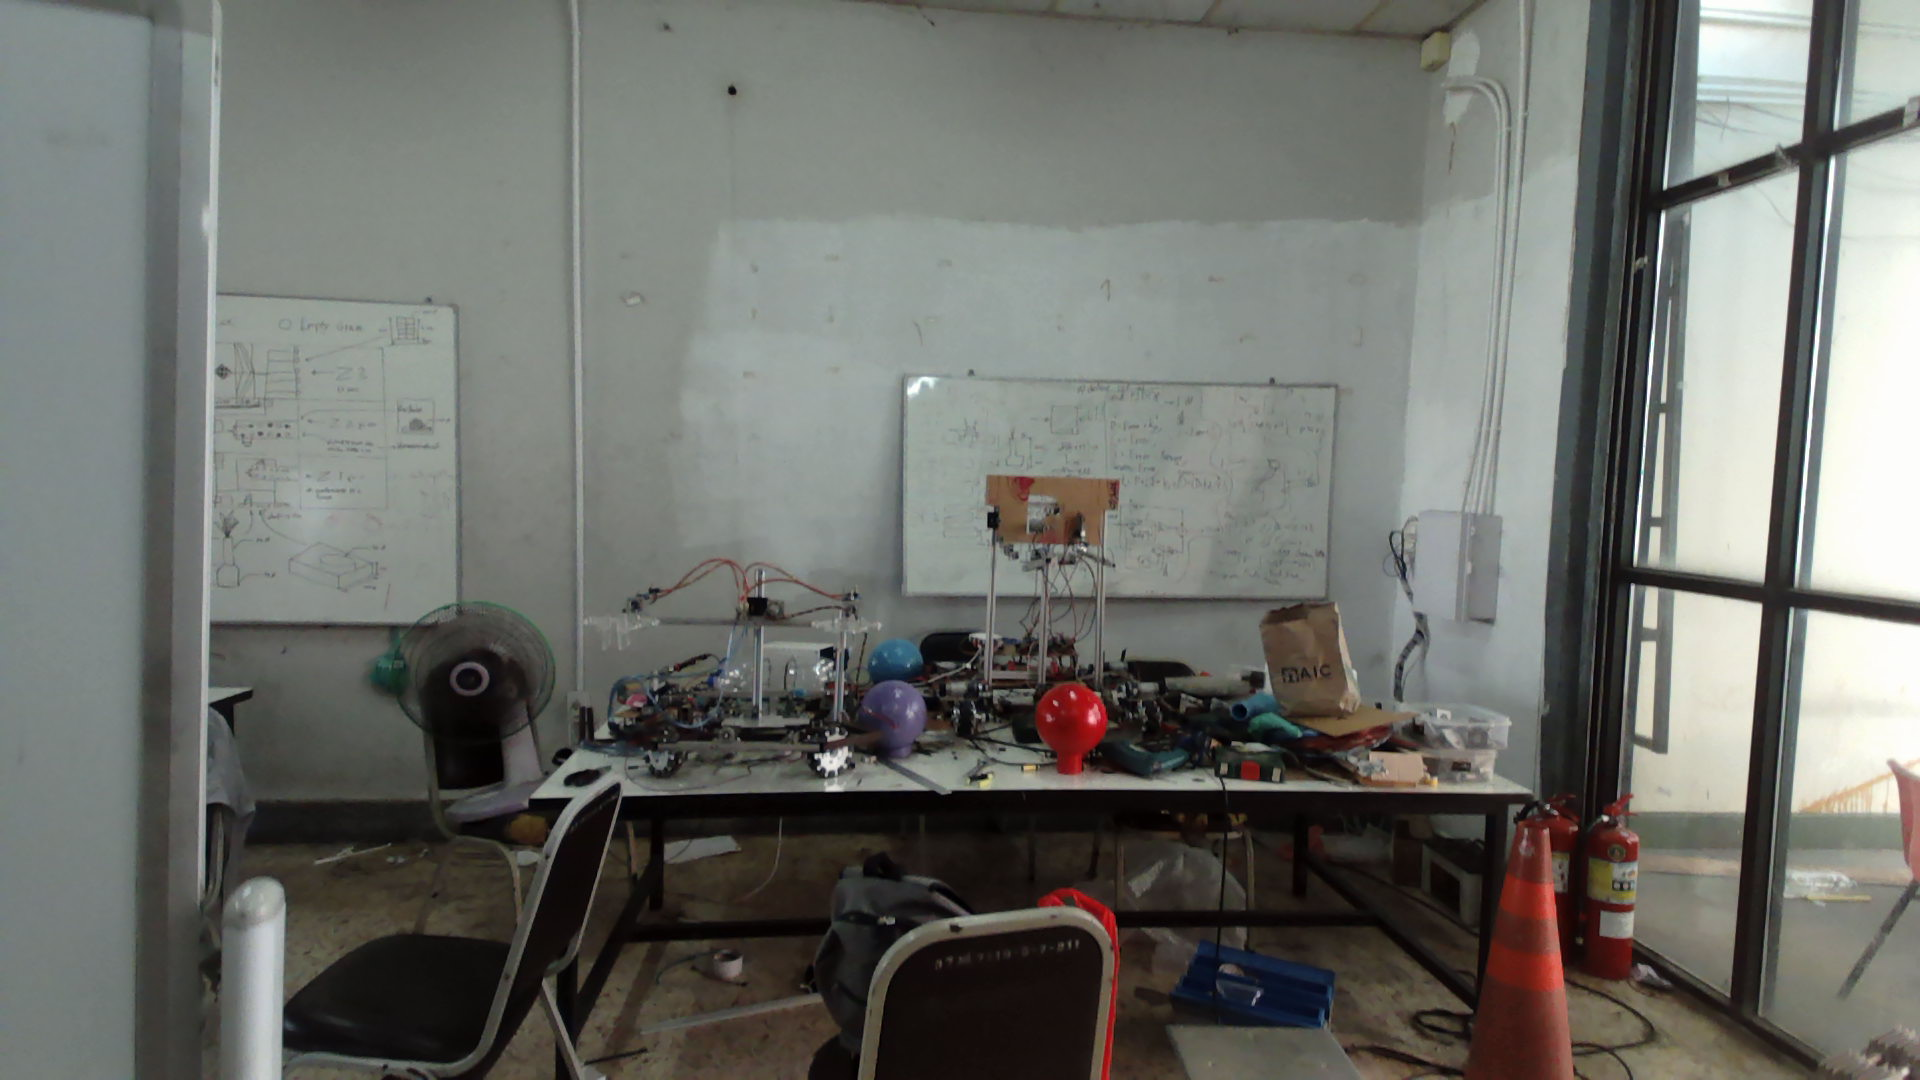Blue ball: (866, 637, 924, 678)
Purple ball: (860, 680, 928, 748)
Red ball: (1033, 683, 1110, 756)
